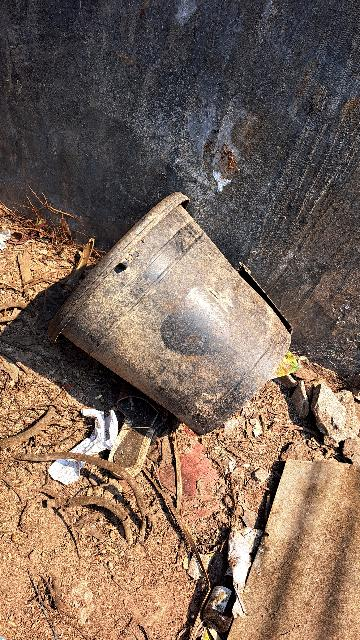hardplastic: (53, 194, 319, 460)
